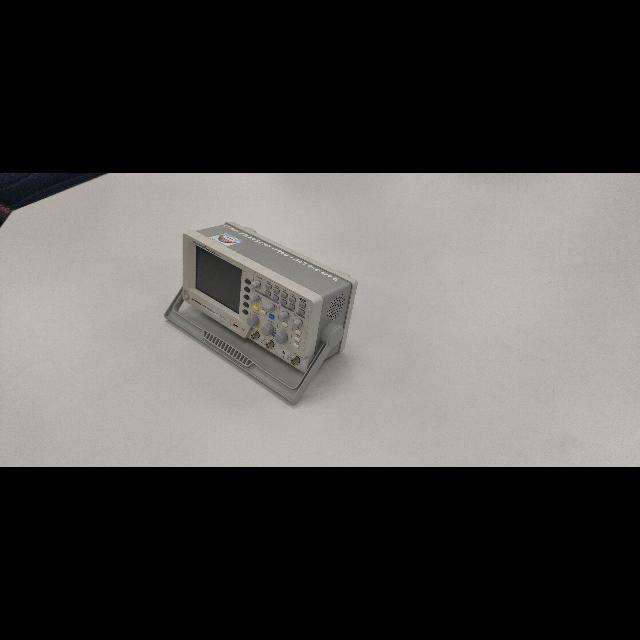Digital-Oscilloscope: (164, 222, 358, 406)
